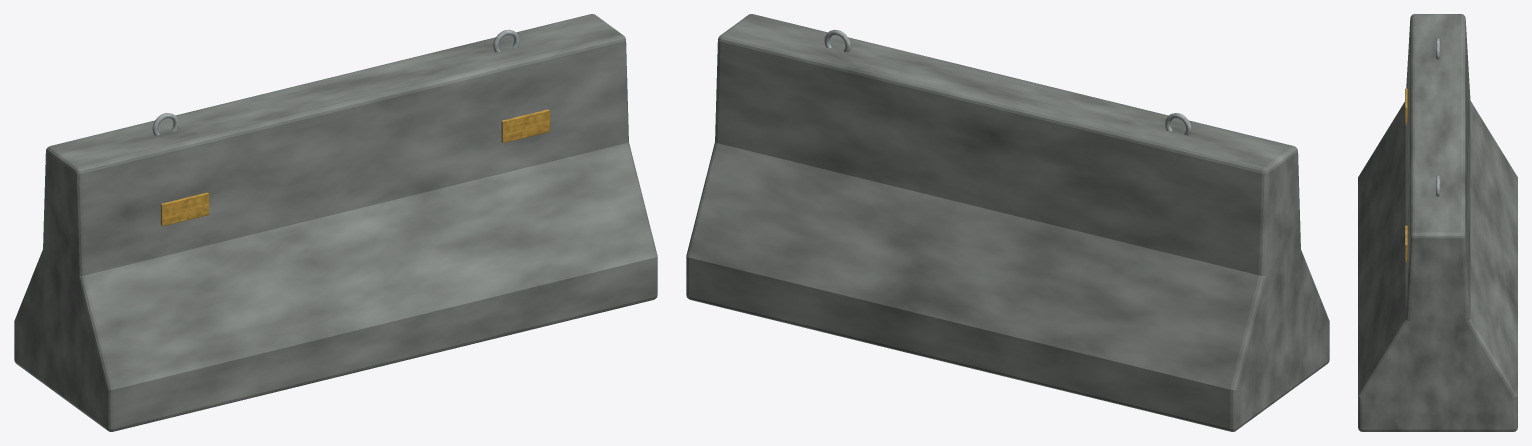
Rendered from GR_ConcreteBarrier_01.glb.
3 views of the same model, side by side, from view 1: azimuth 30°, elevation 25°; view 2: azimuth 150°, elevation 25°; view 3: azimuth 270°, elevation 25° (orthographic). The views are drawn at different scales.
Parts seen in each view (by area): view 1: Static; view 2: Static; view 3: Static.
Part boxes in pixels (x1,y1,x2,y2): Static: (14, 14, 657, 431); Static: (686, 14, 1329, 431); Static: (1358, 14, 1517, 431).
Bounding box in the file's own units: 2.1 × 0.949 × 0.64.
Materials: 1 (1 with a texture image).
